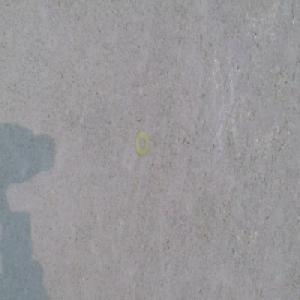Washer: (135, 130, 150, 157)
